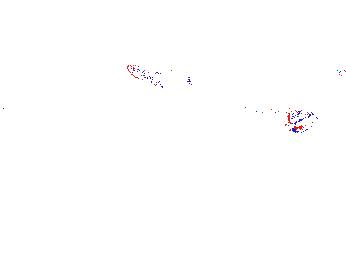glassfish: (206, 101, 314, 127)
red belly glassfish: (289, 120, 318, 136), (321, 65, 346, 80)
redtail glassfish: (122, 63, 203, 89)
